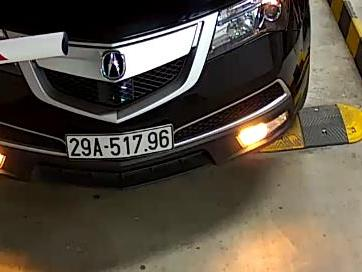number: (67, 126, 174, 159)
